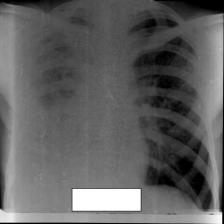tuberculosis: (13, 0, 214, 215)
